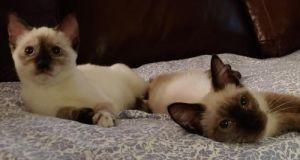siamese: (1, 2, 87, 95)
